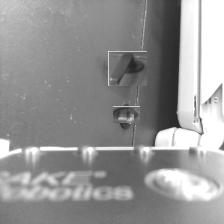Door Handle: (109, 50, 146, 87)
Lock: (115, 104, 138, 126)
